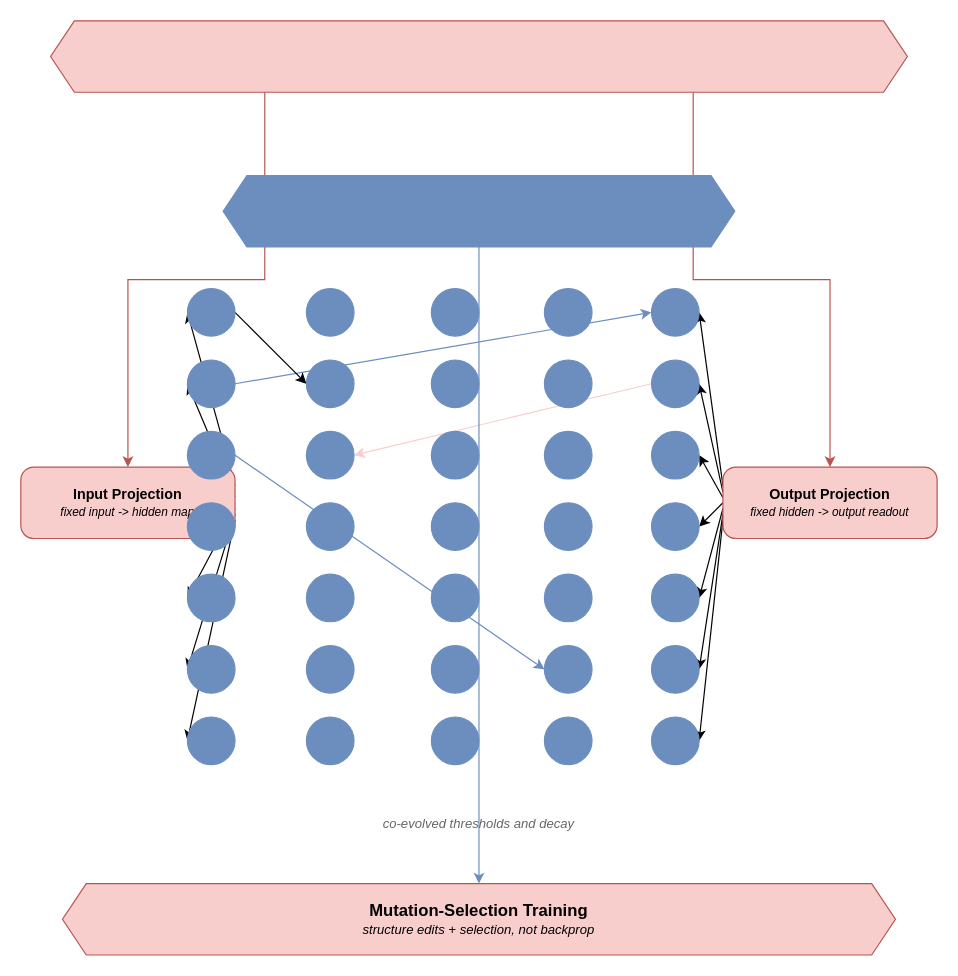
This 958x976 diagram has some shape labels left out. The shapes that lost their labels are listed below. From the top down, each one's centre as x and y in pixels, then its label:
At [478,56]: "Passive I/O Projections fixed interface into and out of hidden space".
At [478,210]: "Self-Wiring Hidden Graph persistent internal state".
